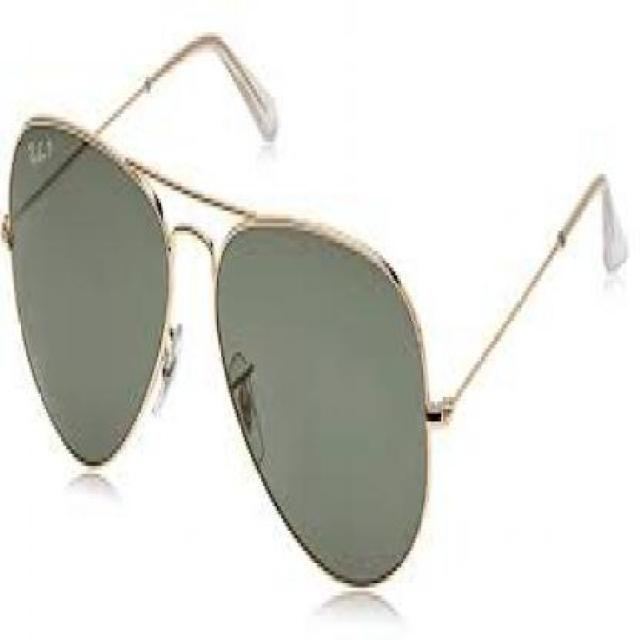gozluk: (2, 105, 436, 608)
